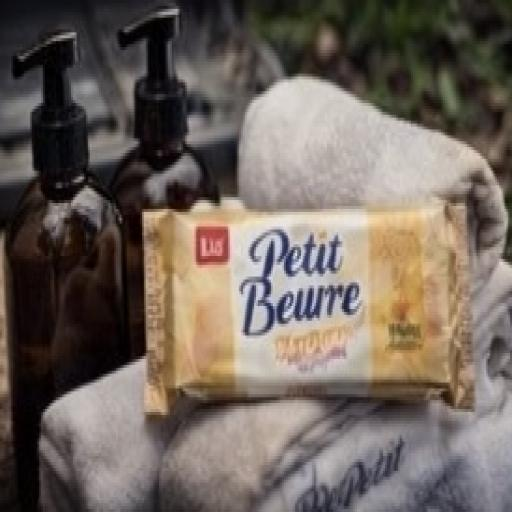petit-beurre: (106, 140, 492, 438)
